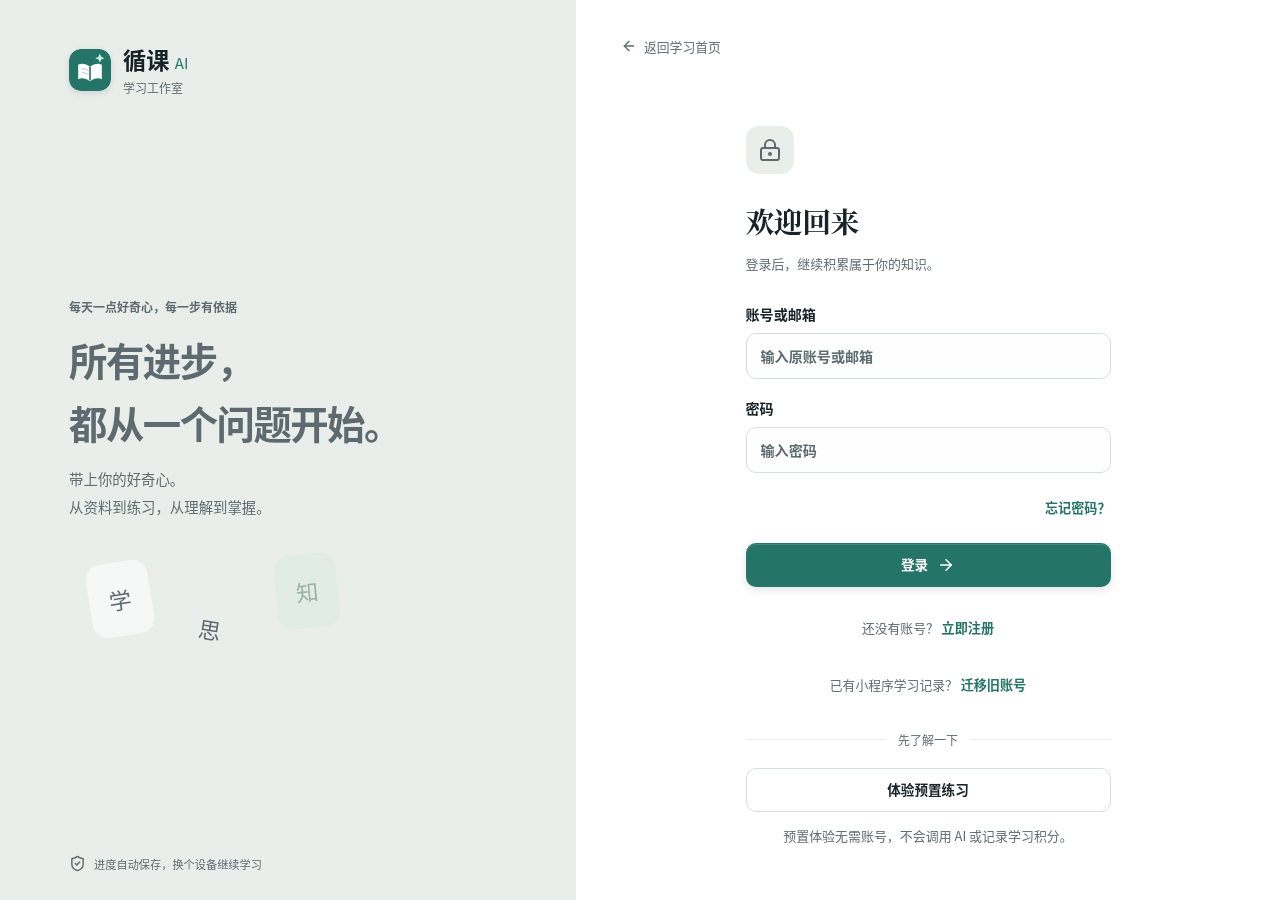
conditional legacy account migration › keeps a rejected migration on the form instead of falling back to account registration
This screenshot has width=1280, height=900.
Click the button "迁移旧账号" at (993, 685), box [961, 669, 1026, 701]
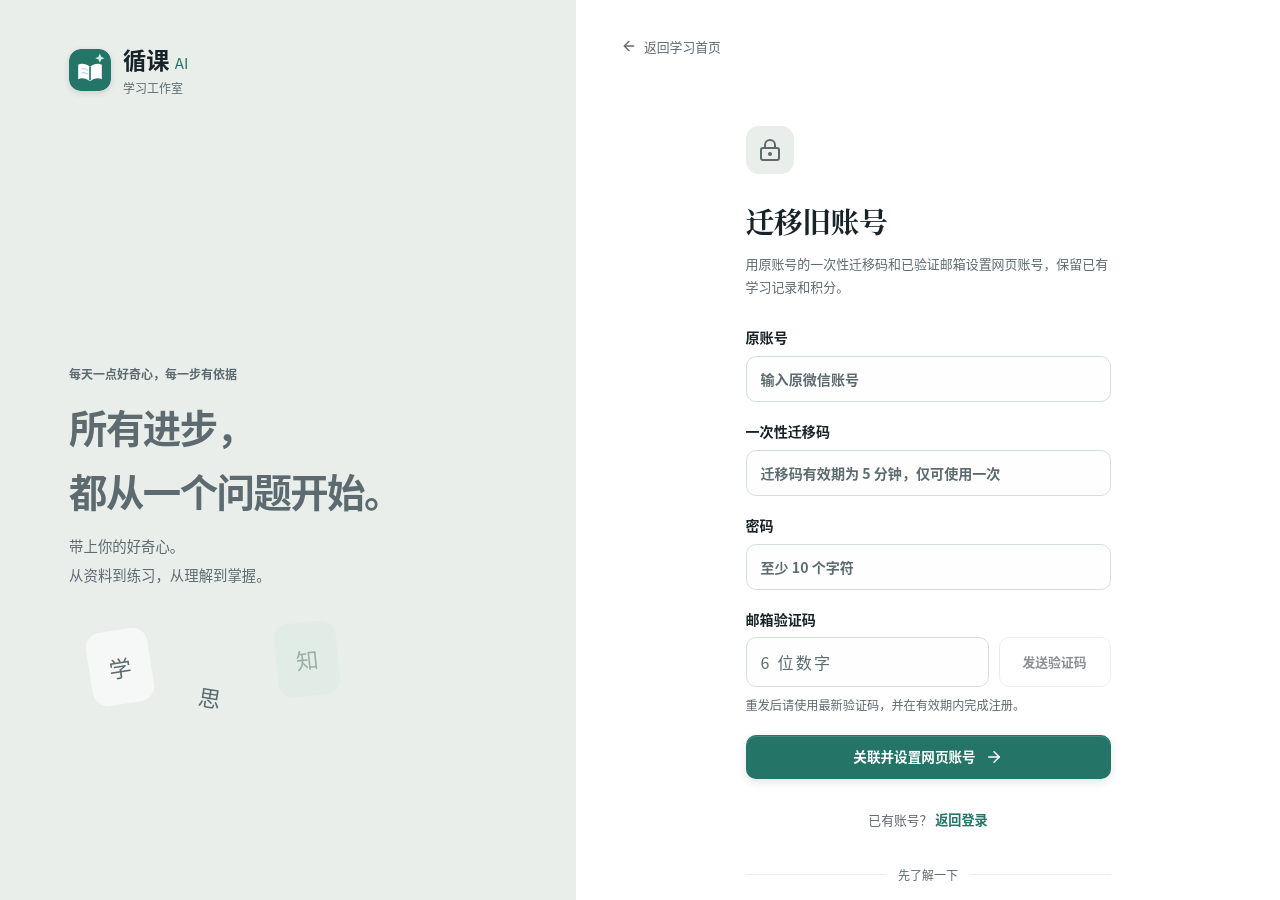
Type "existing-learner" into the field labelled "原账号" at (928, 379), box [746, 356, 1110, 402]
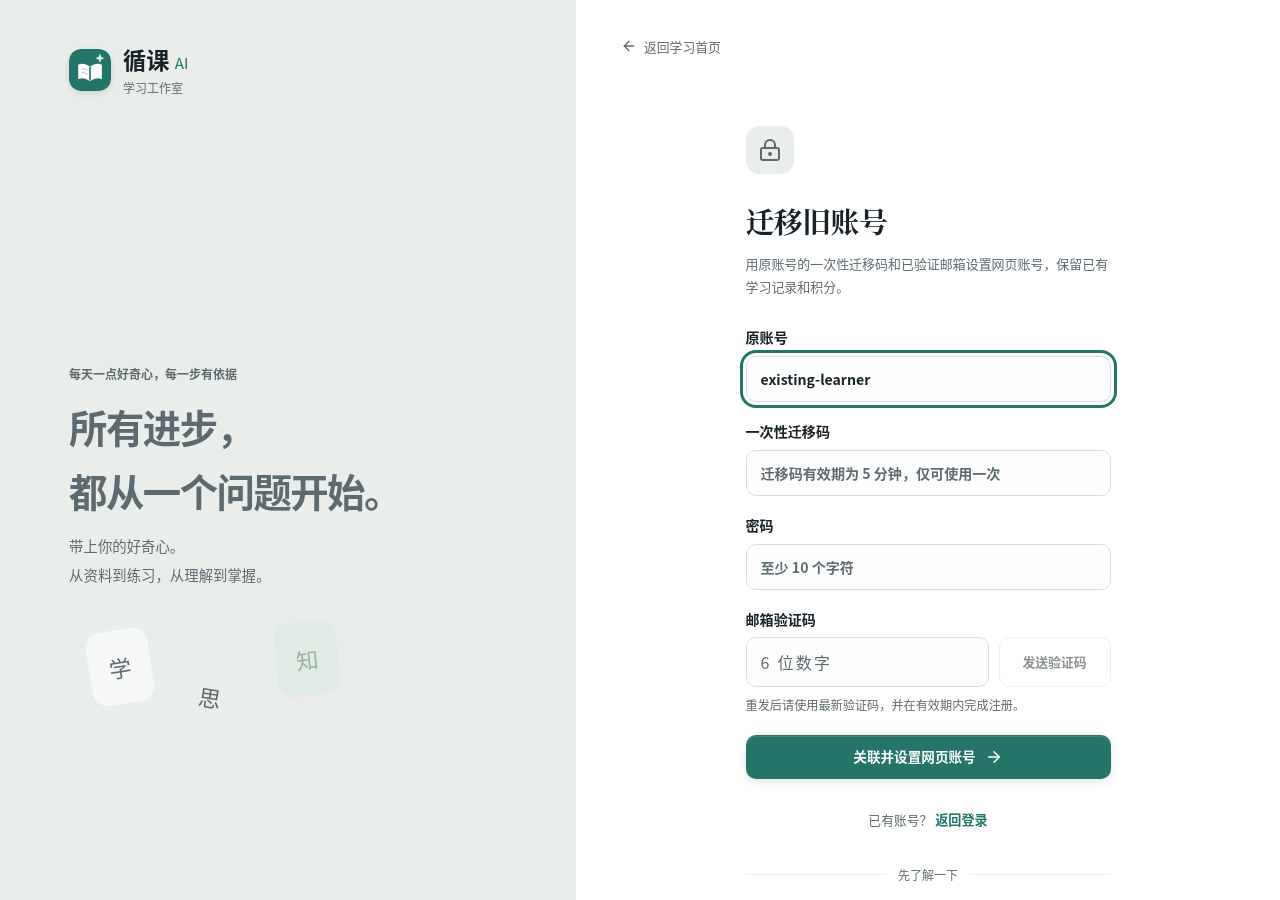
Type "EXPIRED-CODE-FOR-TEST" into the field labelled "一次性迁移码" at (928, 473), box [746, 450, 1110, 496]
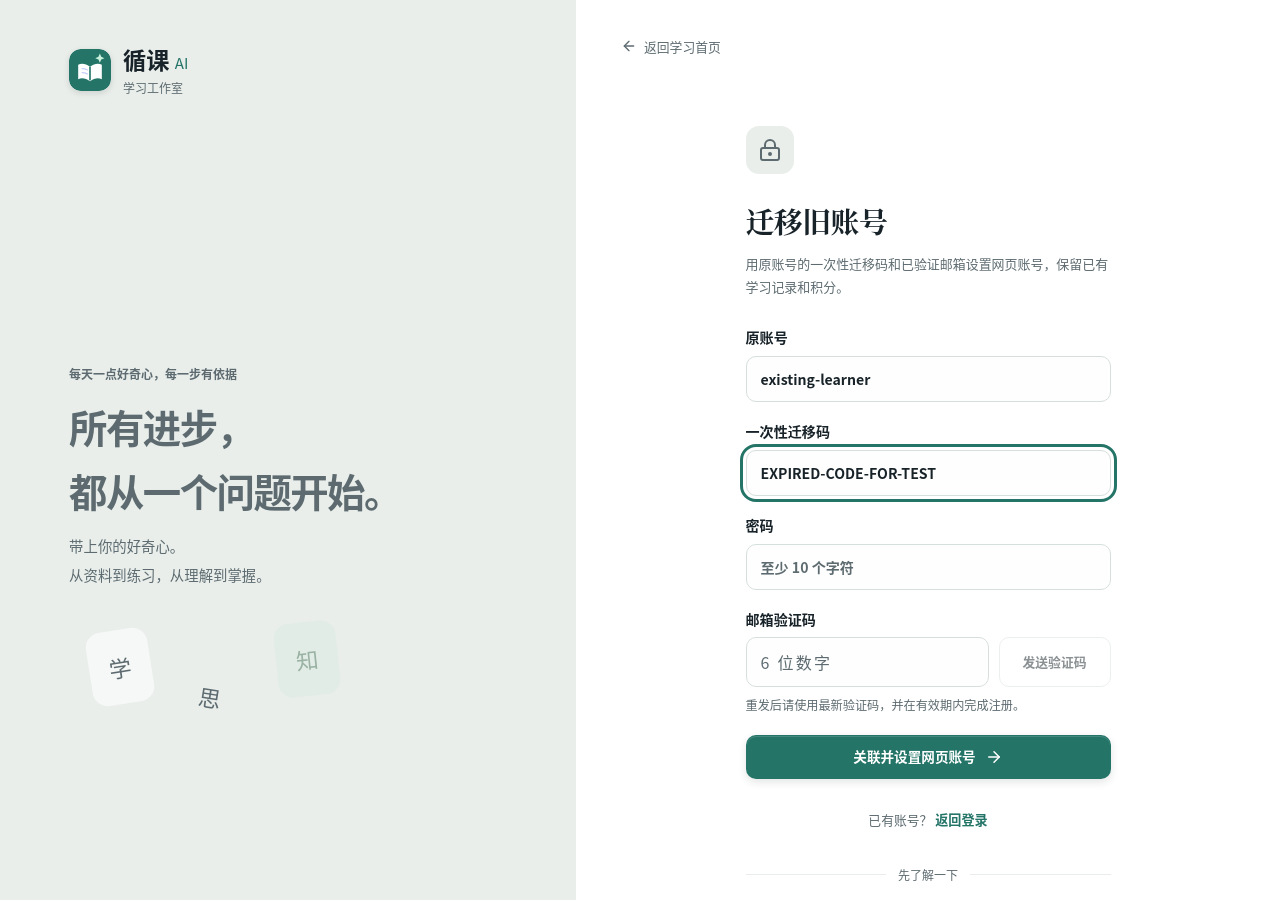
Type "Strong-secret-357!" into the password field labelled "密码" at (928, 567), box [746, 544, 1110, 590]
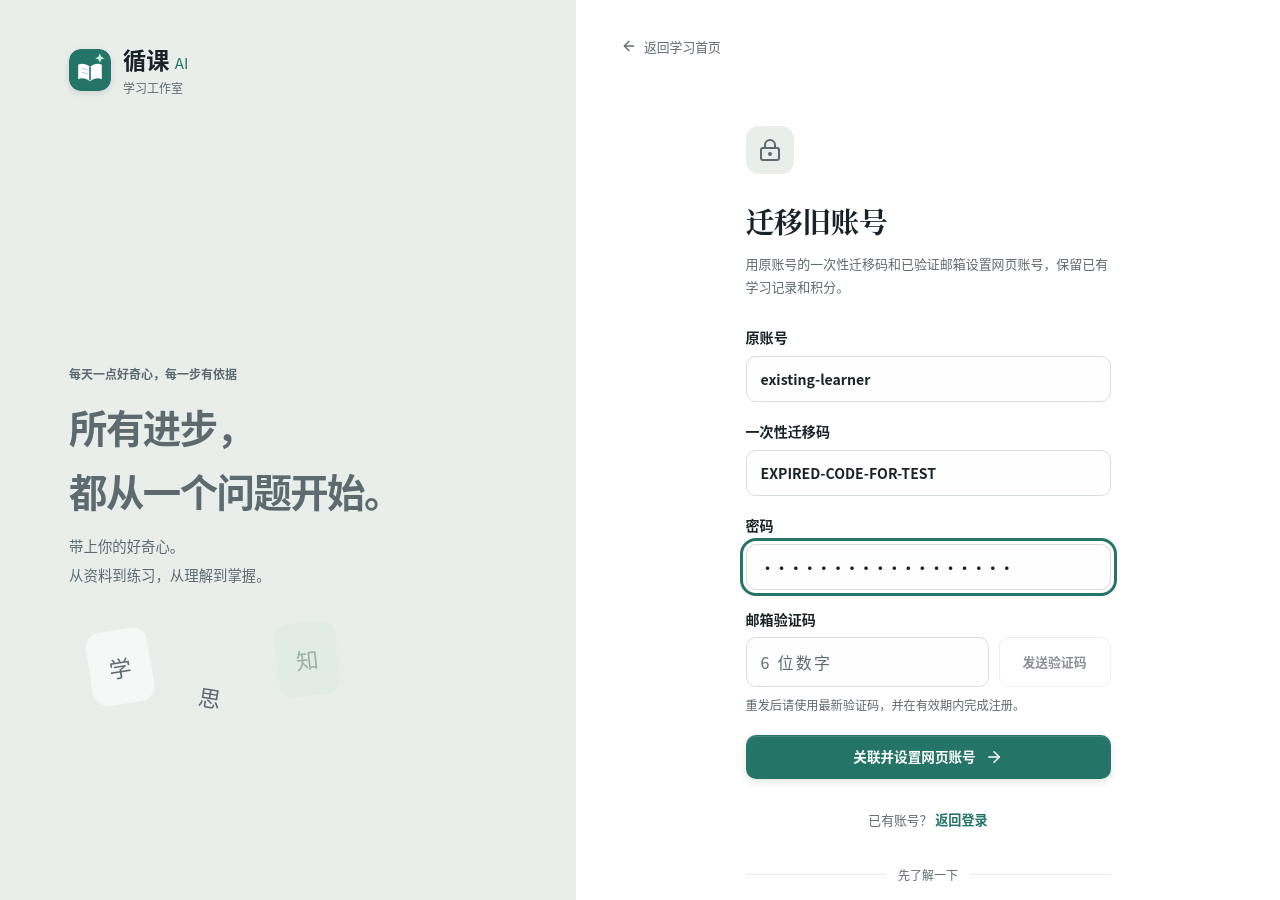
Click the button "关联并设置网页账号" at (928, 757), box [746, 735, 1110, 779]
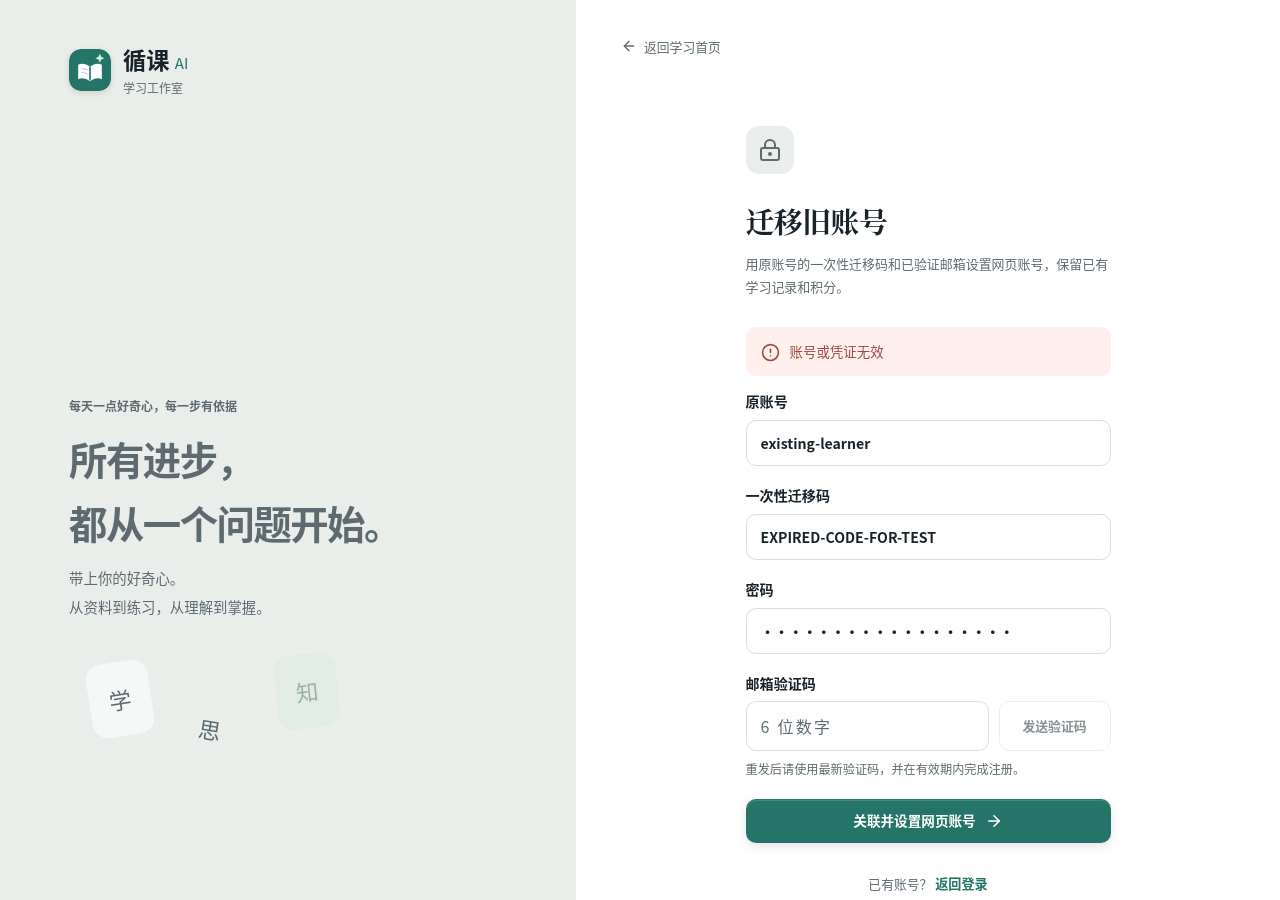
Expected: the button "关联并设置网页账号" is enabled, [746, 799, 1110, 843]
Result: the message reads "账号或凭证无效" at [790, 341, 884, 361]
